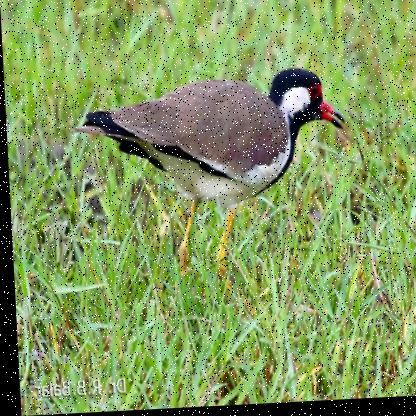Burung: (68, 69, 350, 300)
